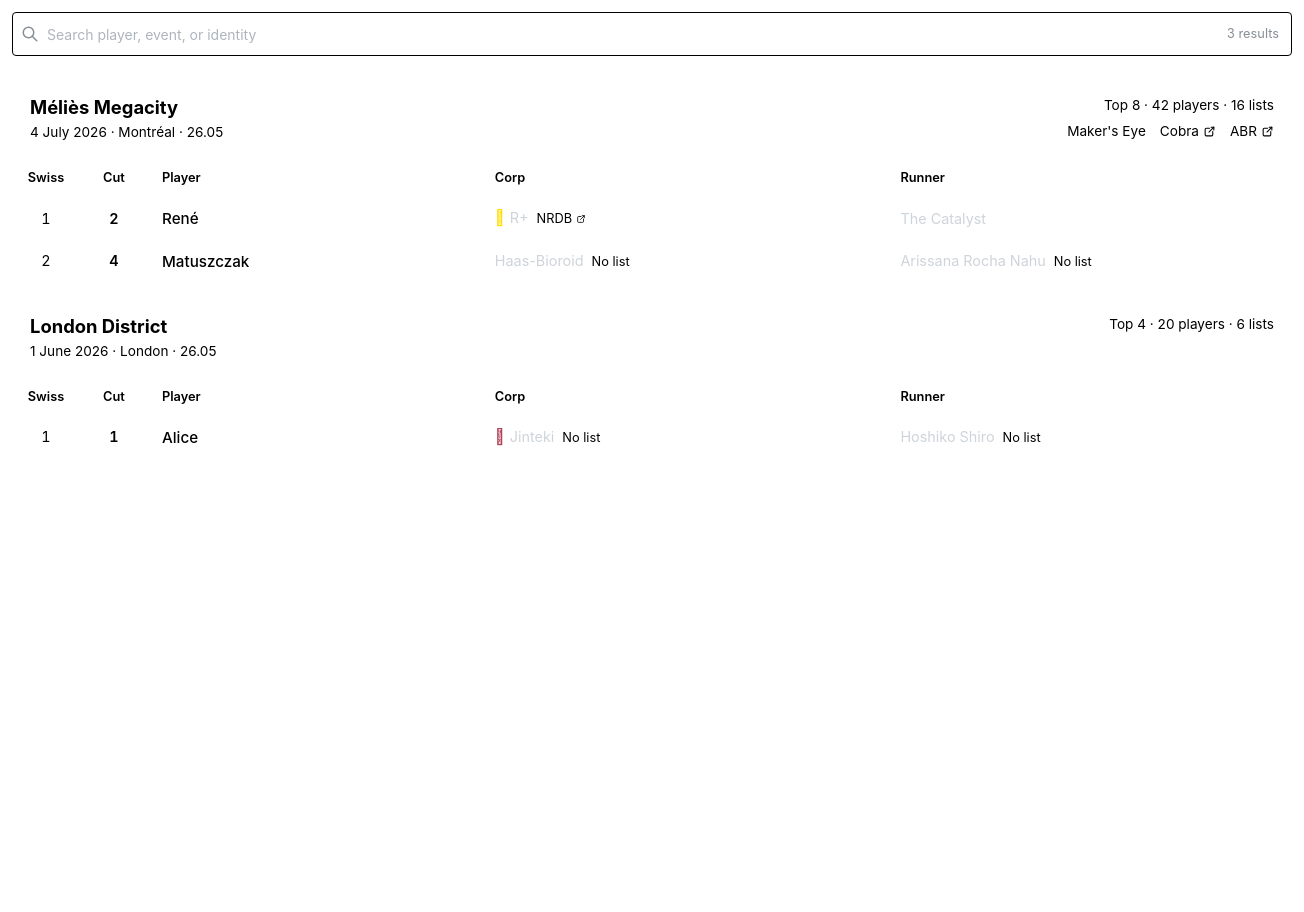
Test: CatalogClient › loads both stored decklists when an entrant is opened
The image size is (1304, 912).
Click the button with aria-label "Open decklists for René" at (180, 219), box [162,209,467,229]
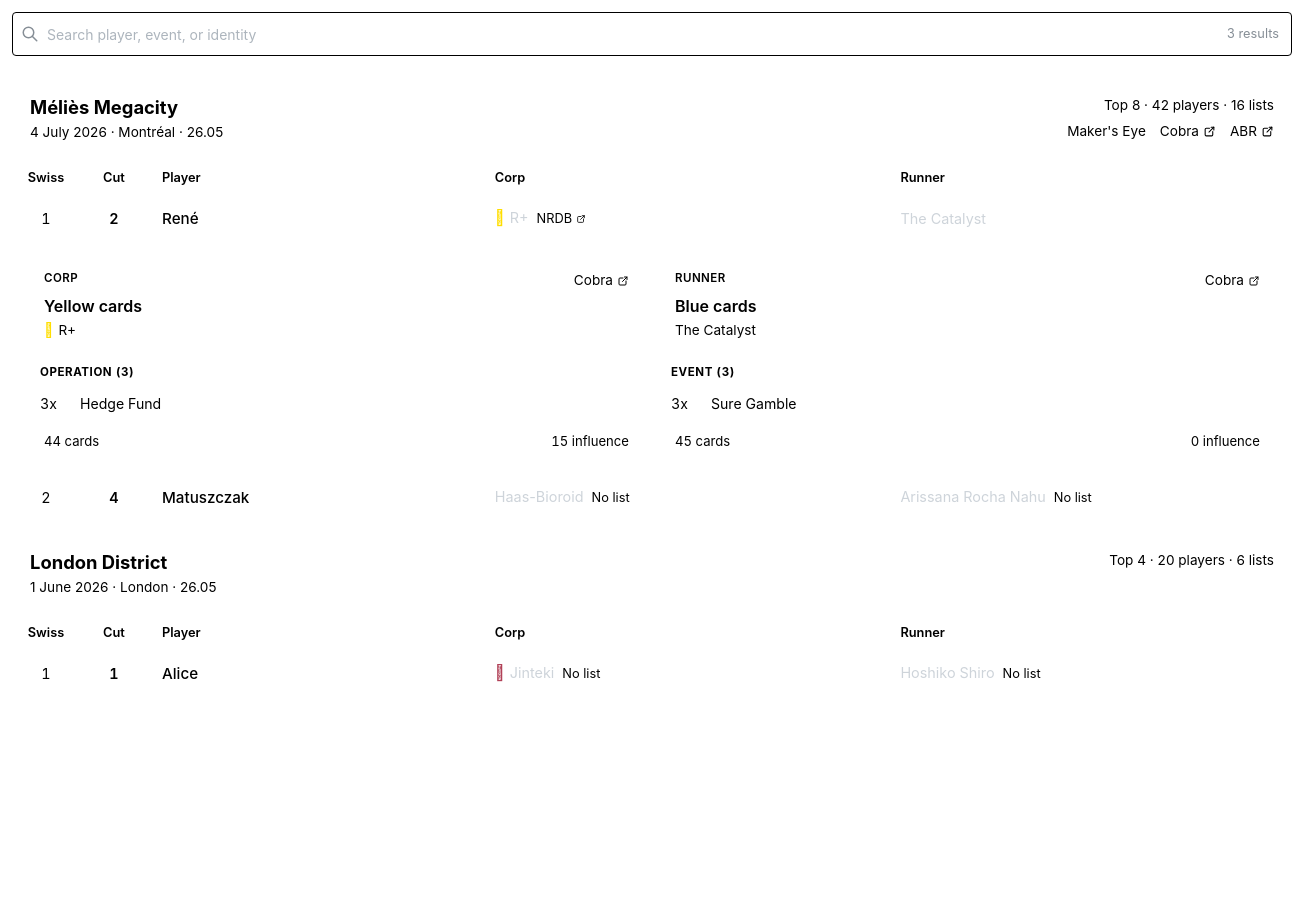
Result: the text "Hedge Fund" is shown at [68,387,605,421]
Result: the text "Sure Gamble" is shown at [699,387,1236,421]
Result: the text "Operation (3)" is shown at [40,365,134,379]
